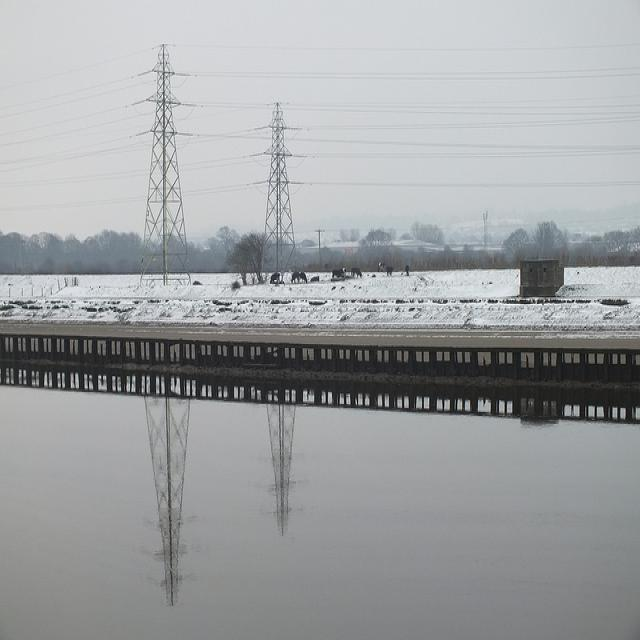cow: (349, 266, 361, 278), (331, 265, 344, 276), (268, 271, 279, 281), (297, 270, 306, 282), (289, 270, 298, 282), (376, 259, 384, 269), (385, 264, 392, 275), (309, 273, 317, 280), (404, 263, 408, 275)
